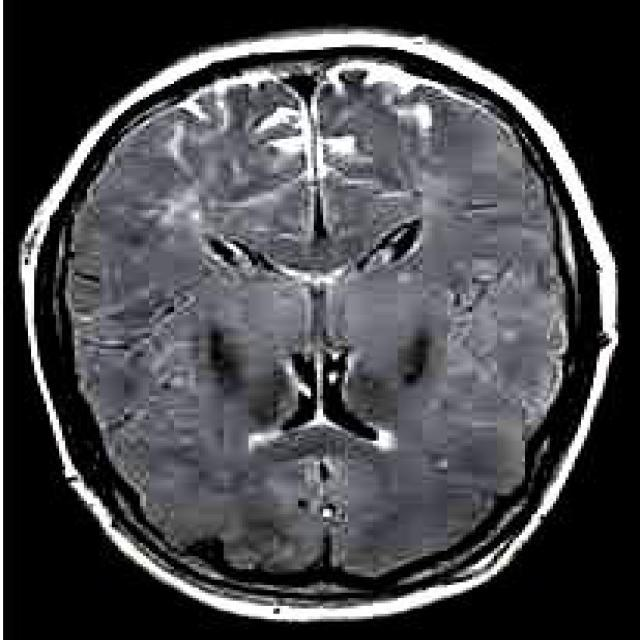notumor: (22, 29, 618, 627)
